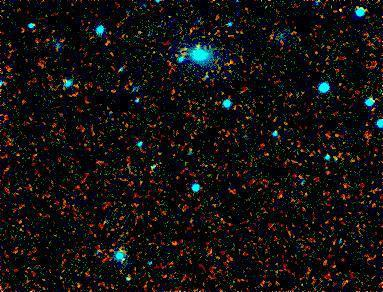star: (184, 32, 214, 62)
